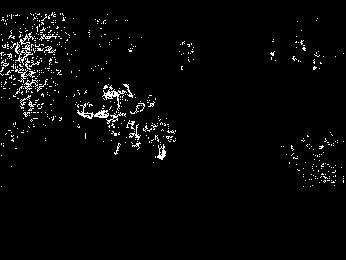person: (117, 78, 143, 155), (97, 82, 121, 155)
